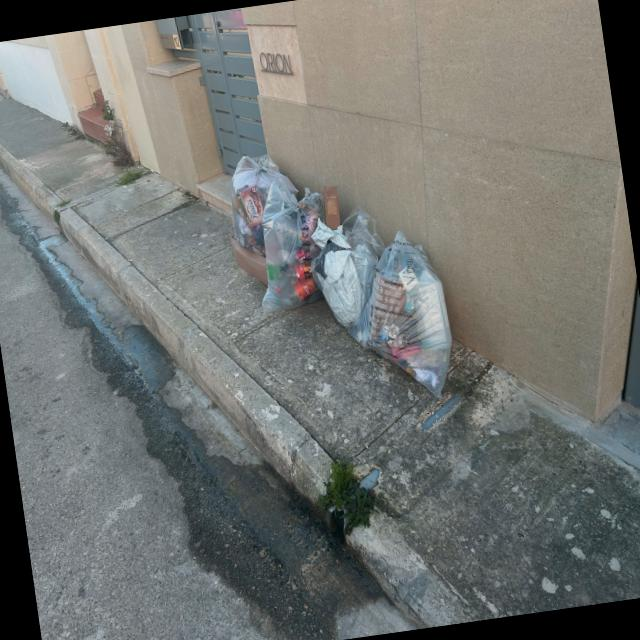grey_bag: (336, 221, 462, 411), (300, 179, 396, 333), (245, 175, 342, 319), (221, 147, 303, 258)
